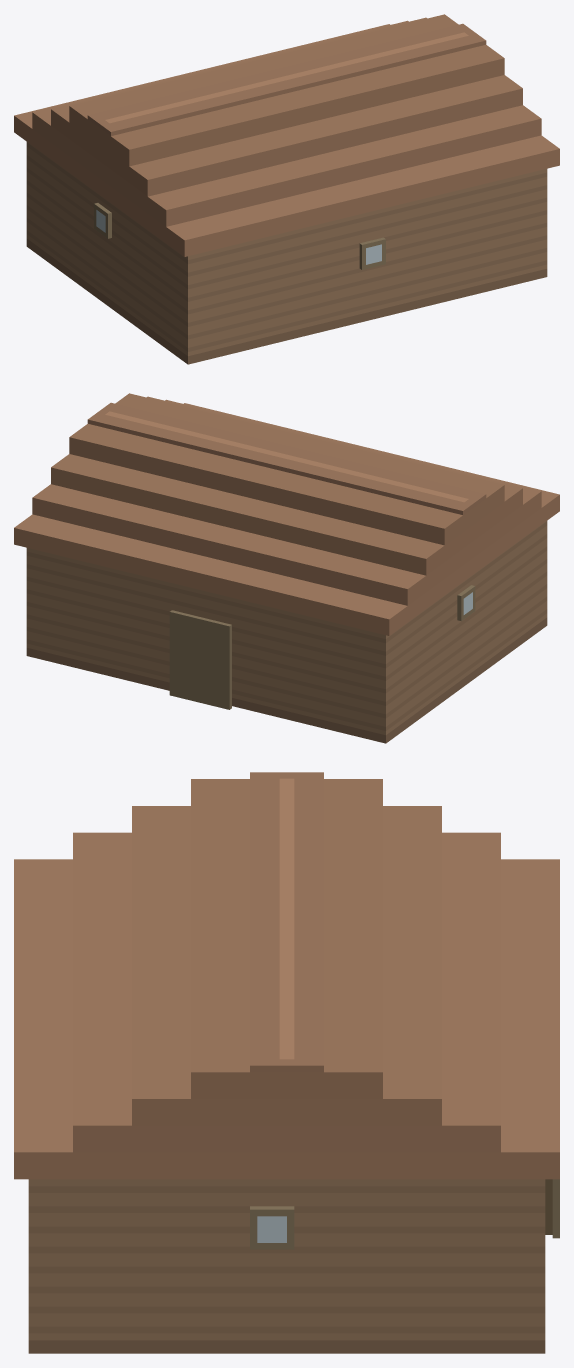
Rendered from curtiduria_03.glb.
3 views of the same model, one above another, from view 1: azimuth 30°, elevation 25°; view 2: azimuth 150°, elevation 25°; view 3: azimuth 270°, elevation 25° (orthographic). The views are drawn at different scales.
Parts seen in each view (by area): view 1: curtiduria_03; view 2: curtiduria_03; view 3: curtiduria_03.
Part boxes in pixels (box(x1,y1,x2,y2)): curtiduria_03: box(14, 14, 559, 364); curtiduria_03: box(14, 393, 559, 743); curtiduria_03: box(14, 772, 559, 1353).
Bounding box in the file's own units: 9.4 × 4.4 × 7.4.
